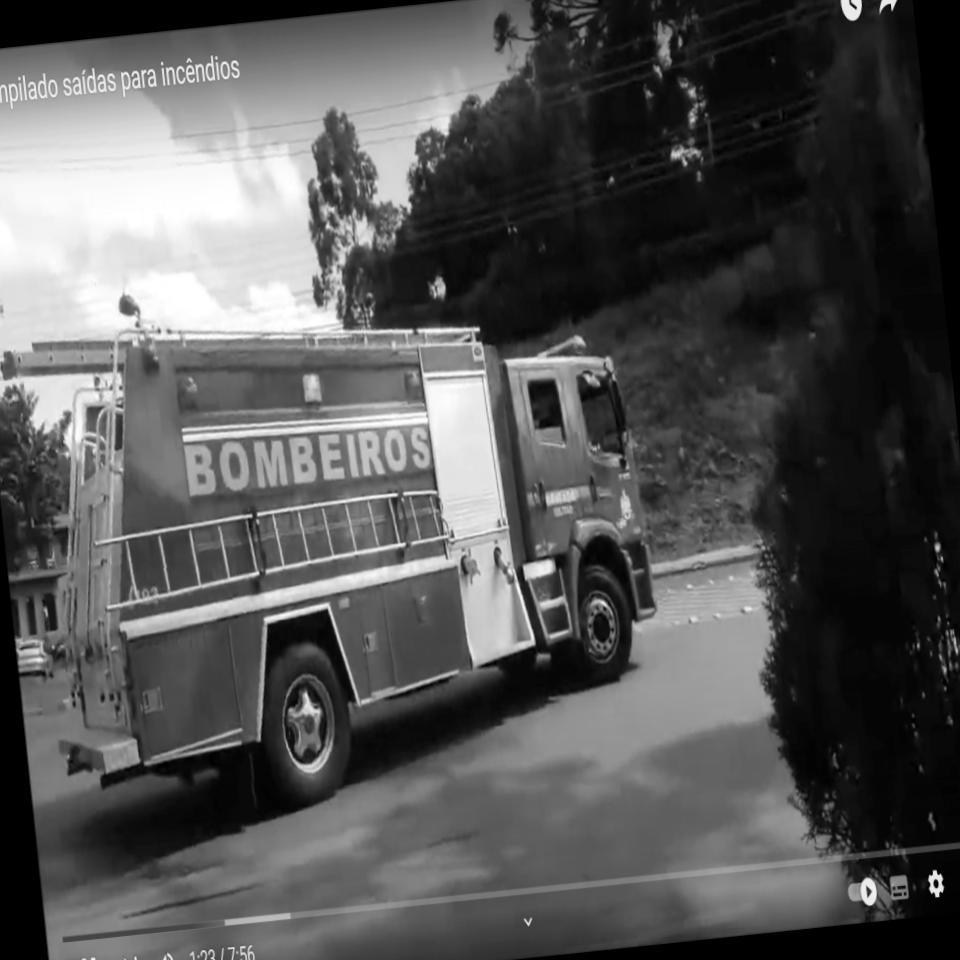viatura: (0, 272, 678, 834)
